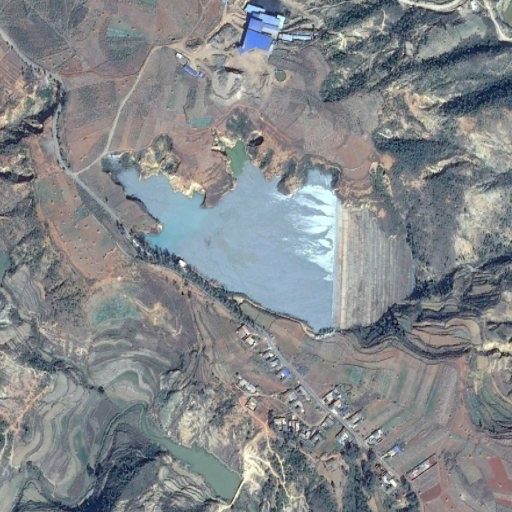tp: (114, 154, 415, 331)
